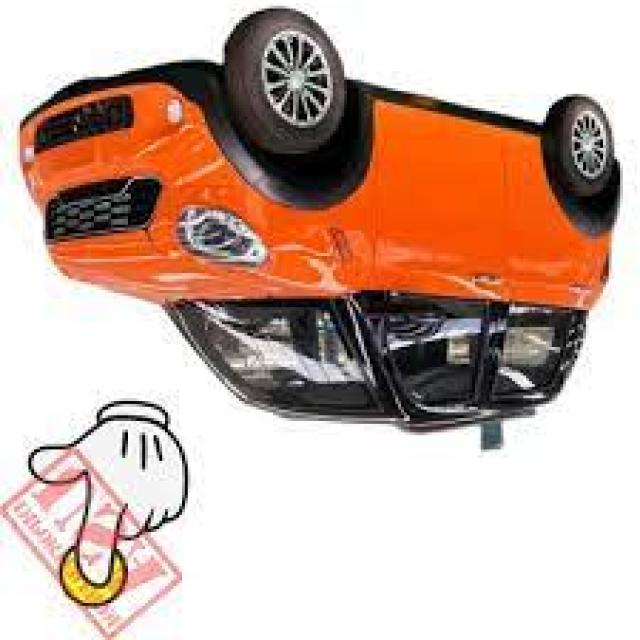Car: (14, 8, 620, 441)
